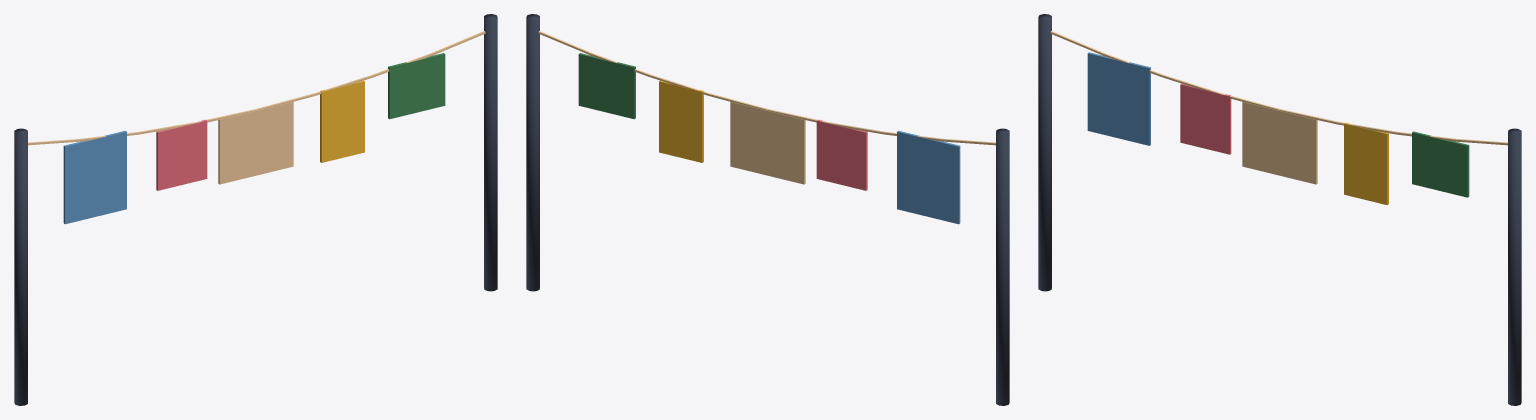
File: laundry.glb
3 renders of one model, left to right at view 1: azimuth 30°, elevation 25°; view 2: azimuth 150°, elevation 25°; view 3: azimuth 330°, elevation 25°, orthographic.
Parts seen in each view (by area): view 1: laundry_cloth0, laundry_cloth2, laundry, laundry_post1, laundry_cloth3, laundry_cloth4, laundry_cloth1; view 2: laundry_cloth0, laundry_cloth2, laundry, laundry_post1, laundry_cloth3, laundry_cloth4, laundry_cloth1; view 3: laundry_cloth0, laundry_cloth2, laundry_post1, laundry, laundry_cloth3, laundry_cloth4, laundry_cloth1.
Part boxes in pixels (x1=…): laundry_cloth0: x1=63, y1=130, x2=126, y2=224; laundry_cloth2: x1=218, y1=102, x2=293, y2=184; laundry: x1=14, y1=128, x2=27, y2=405; laundry_post1: x1=484, y1=14, x2=497, y2=291; laundry_cloth3: x1=320, y1=80, x2=364, y2=162; laundry_cloth4: x1=388, y1=53, x2=445, y2=119; laundry_cloth1: x1=156, y1=119, x2=207, y2=190; laundry_cloth0: x1=897, y1=130, x2=960, y2=224; laundry_cloth2: x1=730, y1=102, x2=805, y2=184; laundry: x1=996, y1=128, x2=1009, y2=405; laundry_post1: x1=526, y1=14, x2=539, y2=291; laundry_cloth3: x1=659, y1=80, x2=703, y2=162; laundry_cloth4: x1=578, y1=53, x2=635, y2=119; laundry_cloth1: x1=816, y1=119, x2=867, y2=190; laundry_cloth0: x1=1087, y1=52, x2=1150, y2=145; laundry_cloth2: x1=1242, y1=102, x2=1317, y2=184; laundry_post1: x1=1508, y1=128, x2=1521, y2=405; laundry: x1=1038, y1=14, x2=1051, y2=291; laundry_cloth3: x1=1344, y1=122, x2=1388, y2=205; laundry_cloth4: x1=1412, y1=131, x2=1469, y2=197; laundry_cloth1: x1=1180, y1=83, x2=1231, y2=154.
Bounding box in the file's own units: 3.9 × 2.1 × 0.1.
